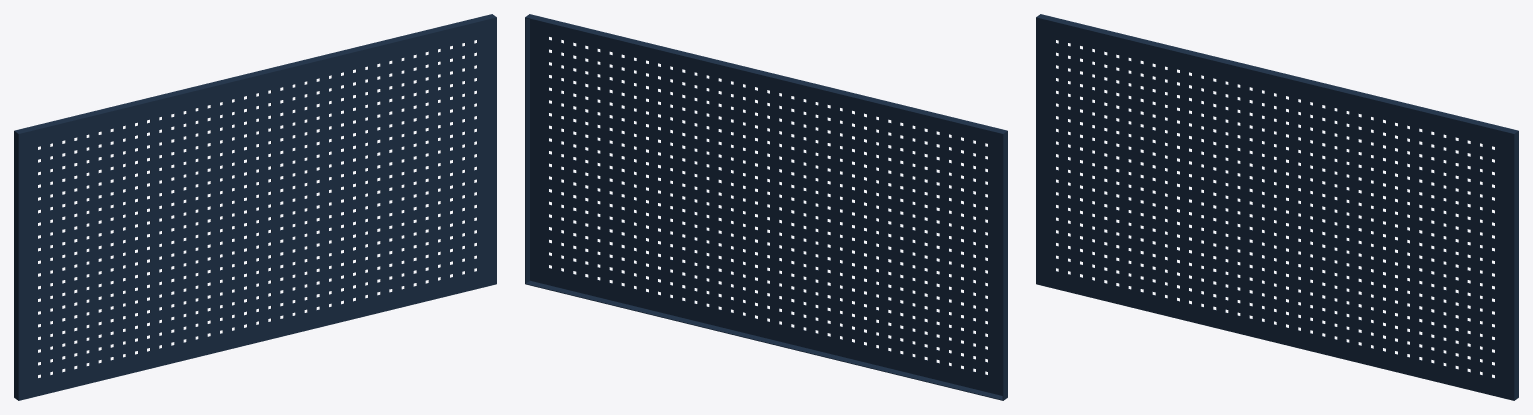
Rendered from lochwand_platte.obj.
3 views of the same model, side by side, from view 1: azimuth 30°, elevation 25°; view 2: azimuth 150°, elevation 25°; view 3: azimuth 330°, elevation 25° (orthographic).
Parts seen in each view (by area): view 1: Lochwand_Platte; view 2: Lochwand_Platte; view 3: Lochwand_Platte.
Part boxes in pixels (left/top/right/bottom): Lochwand_Platte: left=14, top=14, right=496, bottom=400; Lochwand_Platte: left=525, top=14, right=1007, bottom=400; Lochwand_Platte: left=1036, top=14, right=1518, bottom=400.
Size of the model in its own units: 1.5 by 0.8 by 0.025.
